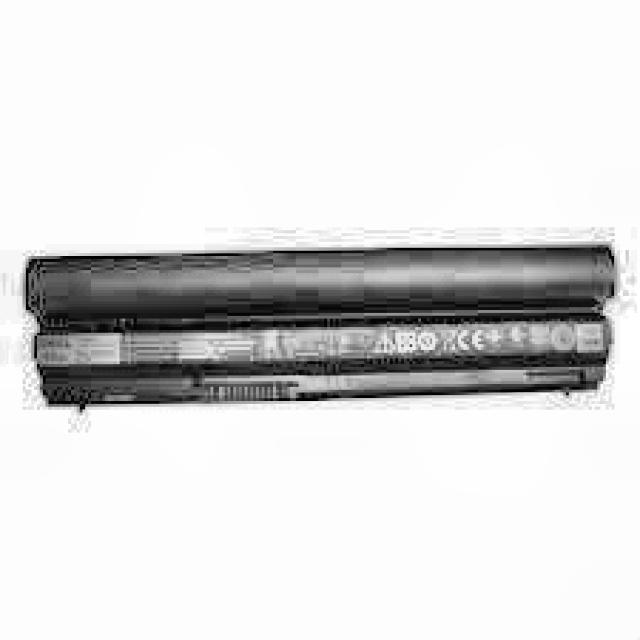Battery: (11, 233, 640, 421)
